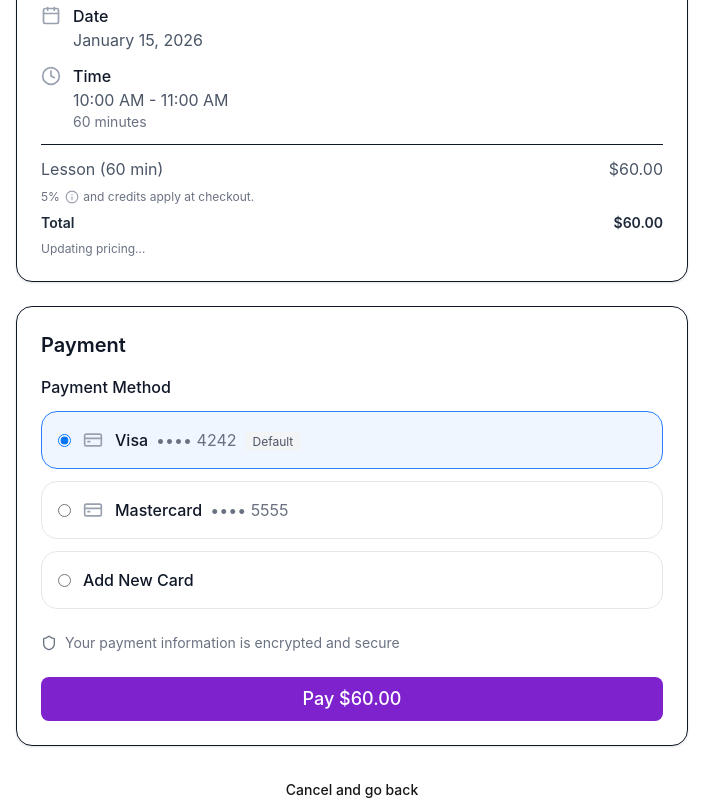
Scenario: CheckoutFlow › Error Handling › displays error and allows retry
(page scrolled)
Expected: the text "Visa" is shown, [115,430,148,450]
What coordinates should you click on to do the following:
click the button "Pay $60.00"
I would click on:
 (352, 699)
Its box is [41,677,663,721].
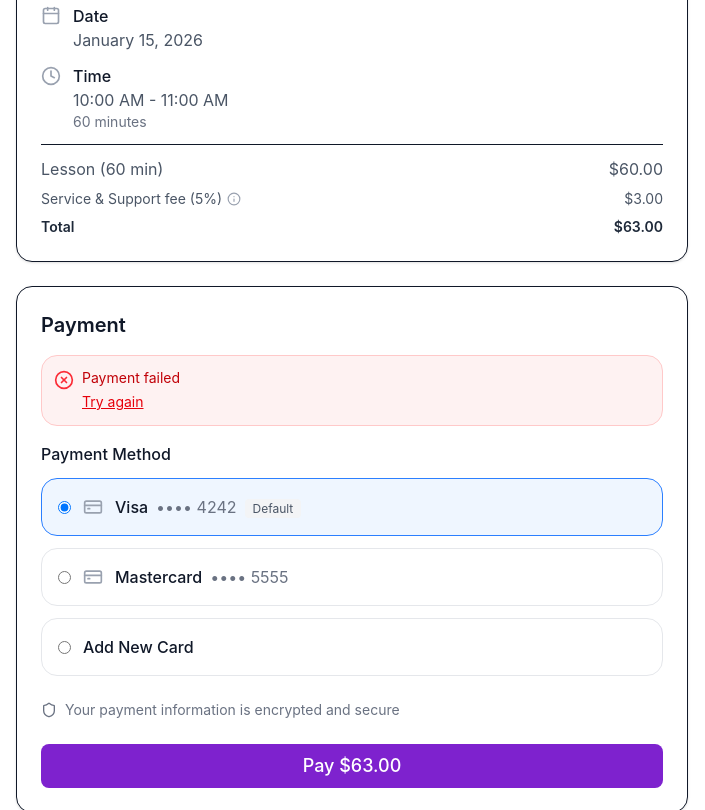
Expected: the text "Payment failed" is shown, [82,369,180,386]
Expected: the button "Try again" is shown, [82,392,144,412]
